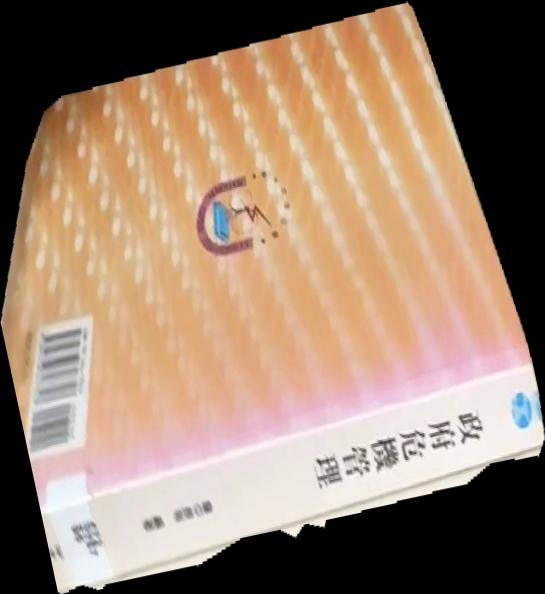flat: (1, 1, 545, 594)
